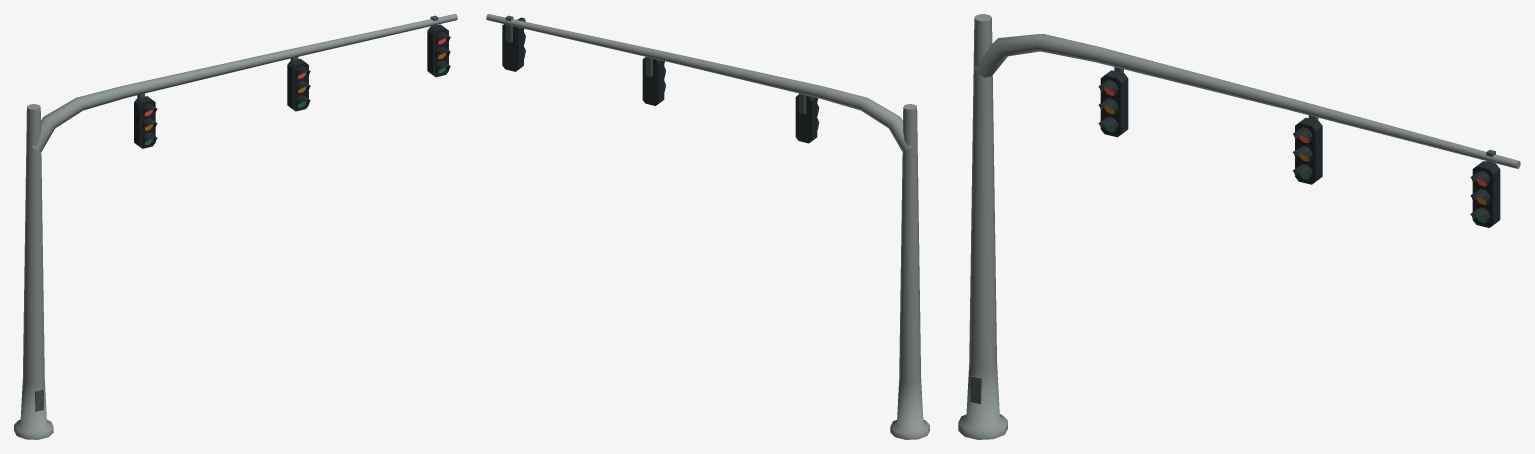
File: sg-mast-signal.glb
The picture shows the model from 3 angles, left to right: view 1: azimuth 30°, elevation 25°; view 2: azimuth 150°, elevation 25°; view 3: azimuth 330°, elevation 25°; orthographic projection. The views are drawn at different scales.
Visible parts, largest first — view 1: mast_post, cantilever_arm, vehicle_head_3, vehicle_head_1, vehicle_head_2; view 2: mast_post, cantilever_arm, vehicle_head_1, vehicle_head_3, vehicle_head_2; view 3: mast_post, cantilever_arm, vehicle_head_3, vehicle_head_1, vehicle_head_2.
Boxes of the visible parts, <box> form: mast_post: <box>14,104,53,439</box>; cantilever_arm: <box>31,14,457,151</box>; vehicle_head_3: <box>427,15,450,77</box>; vehicle_head_1: <box>134,93,157,148</box>; vehicle_head_2: <box>287,57,310,111</box>; mast_post: <box>890,104,929,439</box>; cantilever_arm: <box>486,14,912,151</box>; vehicle_head_1: <box>795,93,819,143</box>; vehicle_head_3: <box>502,15,525,71</box>; vehicle_head_2: <box>642,57,665,105</box>; mast_post: <box>958,14,1007,439</box>; cantilever_arm: <box>973,34,1520,168</box>; vehicle_head_3: <box>1470,149,1500,227</box>; vehicle_head_1: <box>1098,67,1128,137</box>; vehicle_head_2: <box>1293,115,1322,184</box>.
Bounding box in the file's own units: 8.72 × 6.16 × 0.7868.
